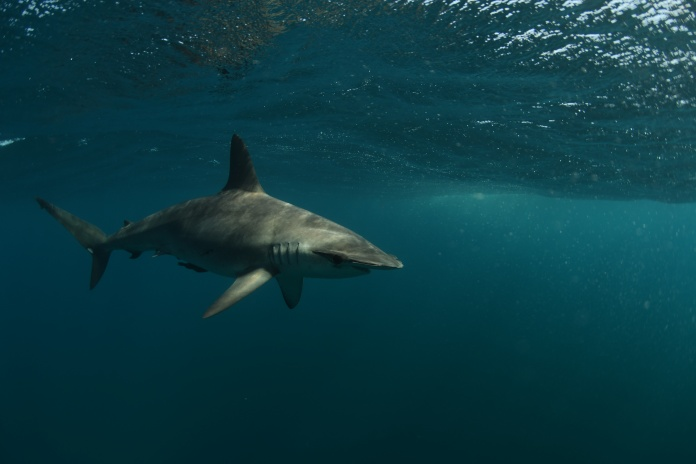Hammer: (30, 122, 416, 345)
